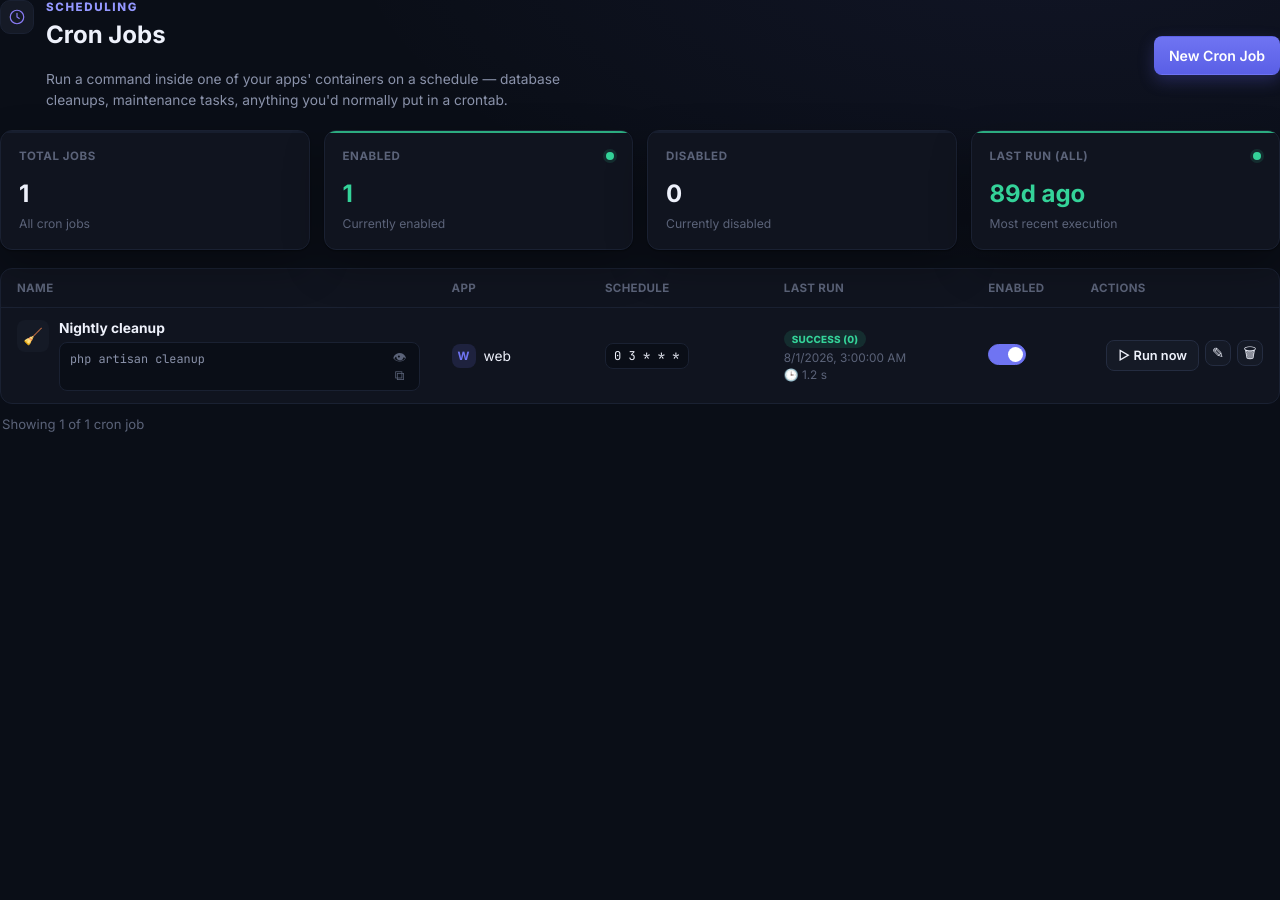
Test: CronPage › clicking a last-run status opens the run history with the newest output
Check: the text "Nightly cleanup" is shown, box [59,320,165,336]
Click the button "success (0) 8/1/2026, 3:00:00 AM 🕒 1.2 s". click: click(845, 356)
box: [784,330,906,382]
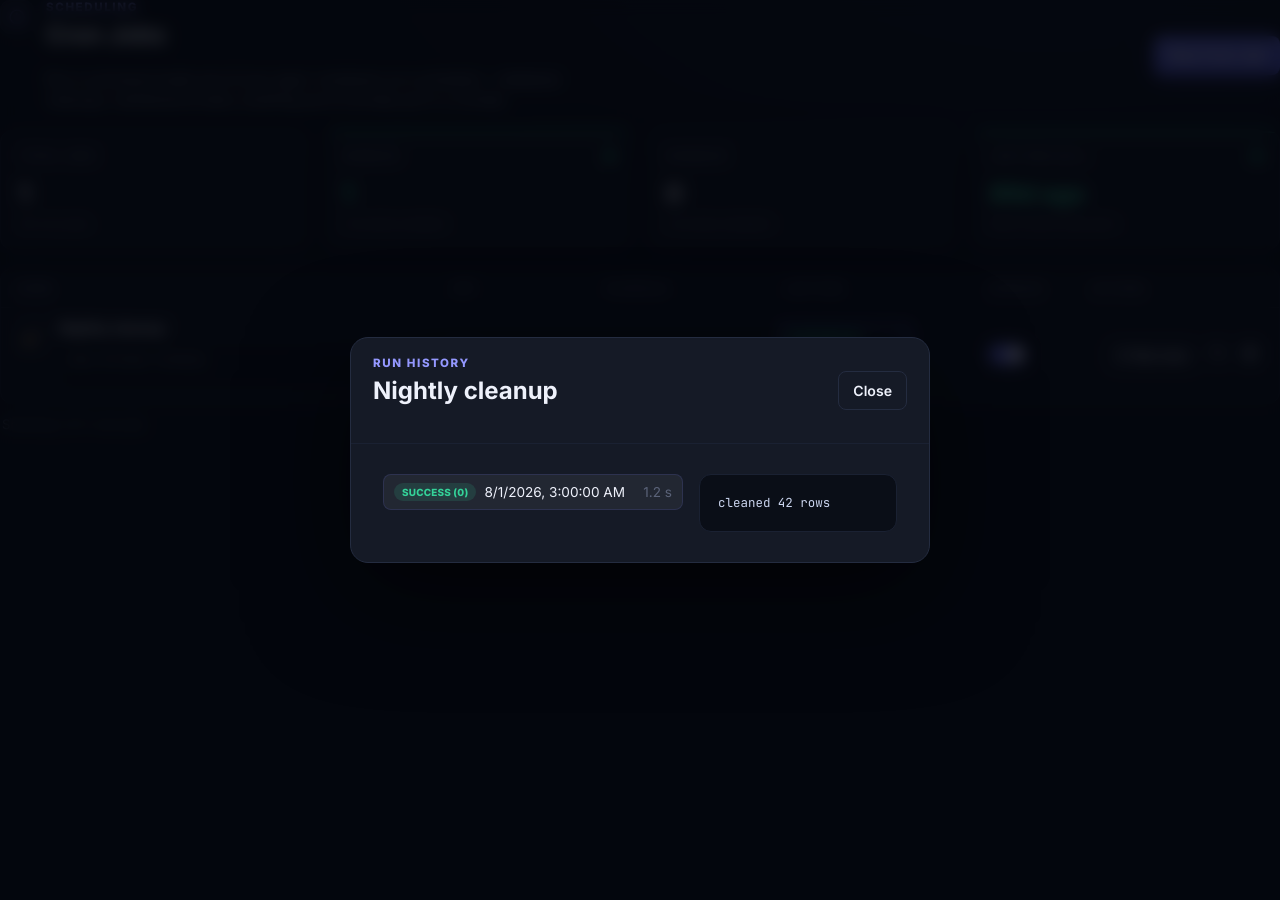
Check: the heading "Nightly cleanup" is shown, box [373,376,558,405]
Check: the text "cleaned 42 rows" is shown, box [718,494,830,511]
